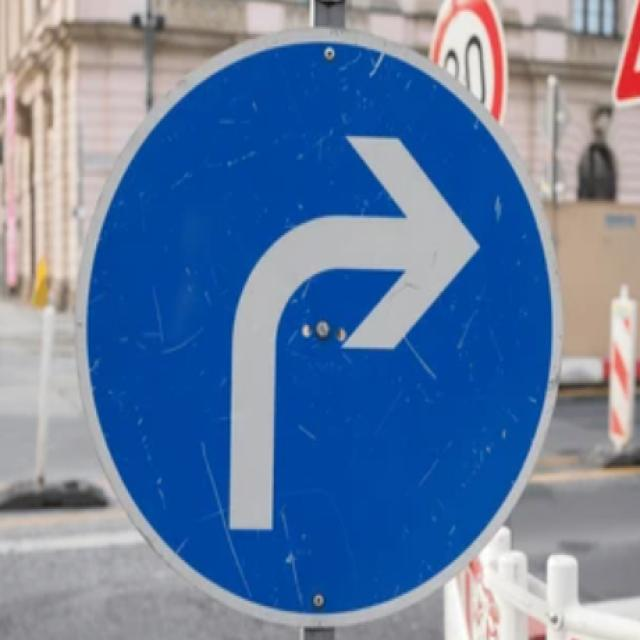RIGHT: (77, 27, 562, 626)
